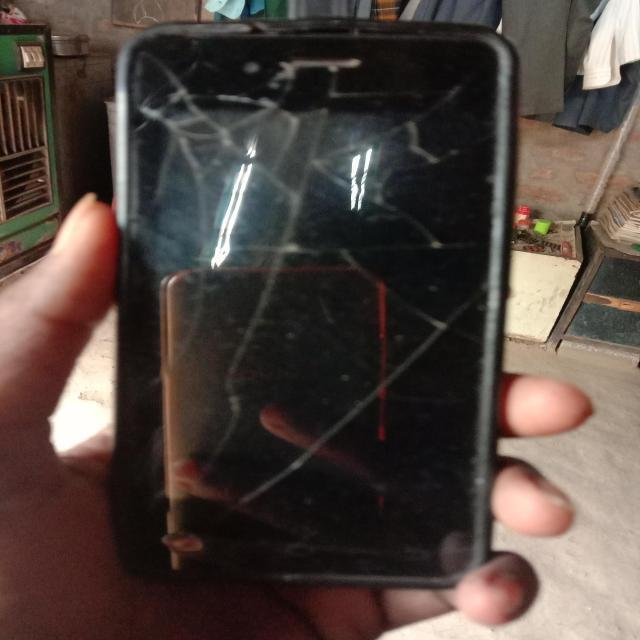cellphone: (74, 15, 576, 617)
